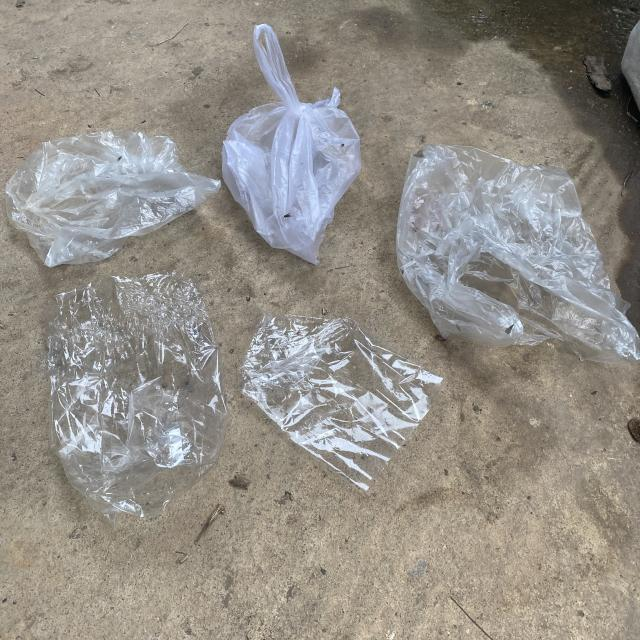Single-layer Plastic: (396, 145, 640, 364), (48, 271, 226, 522), (239, 314, 442, 490), (222, 24, 361, 264), (6, 131, 221, 266)
